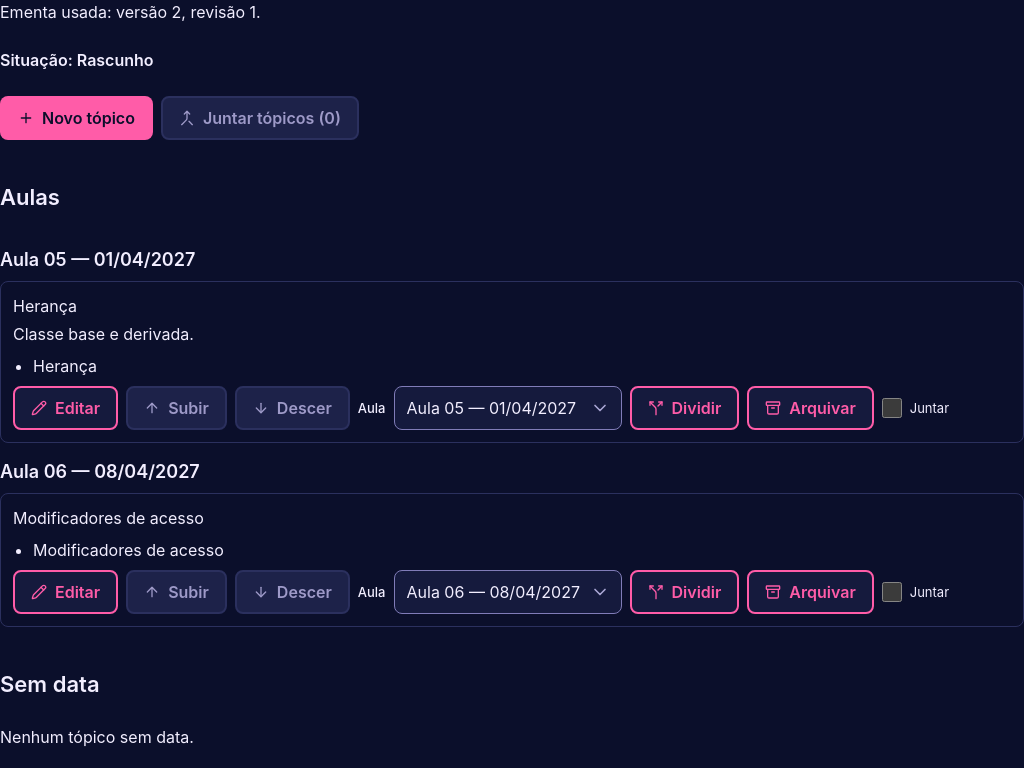
Test: 004/US6-2 MergeTopicsDialog — juntar tópicos (FR-036) › na página: a seleção "Juntar" de dois tópicos habilita "Juntar tópicos (2)"
Expected: the button "Juntar tópicos (0)" is disabled, x1=161 y1=96 x2=359 y2=140
Click the checkbox named "Juntar Modificadores de acesso": [892, 592] box x1=882 y1=582 x2=902 y2=602
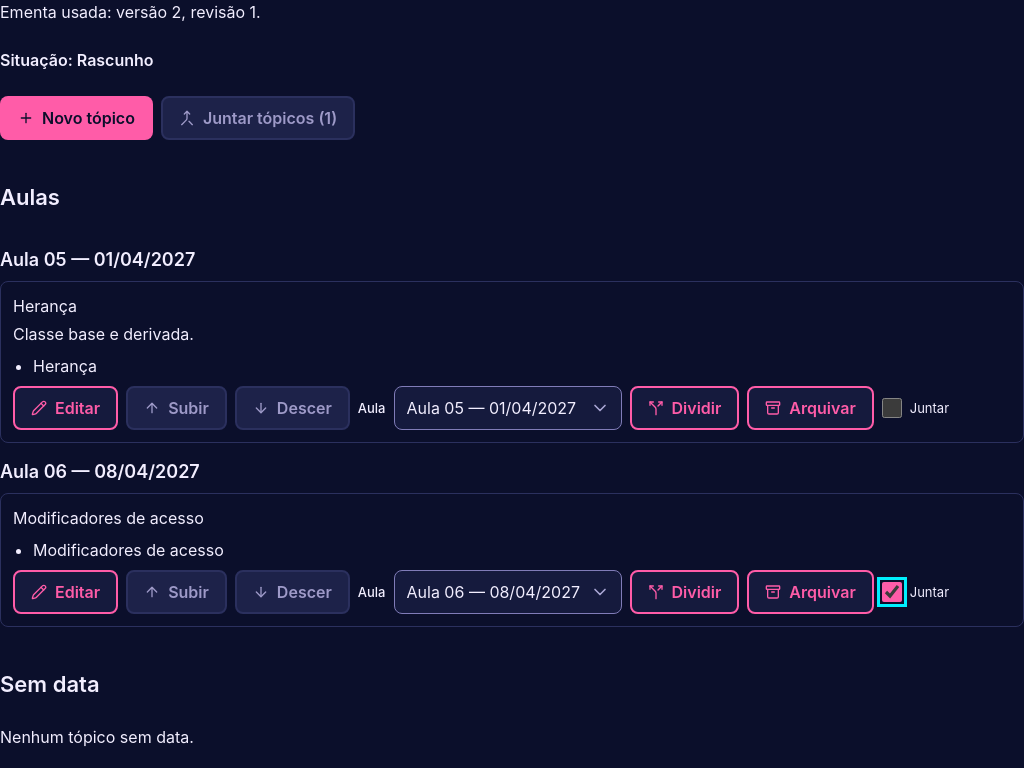
Click the checkbox named "Juntar Herança": [892, 408] box x1=882 y1=398 x2=902 y2=418
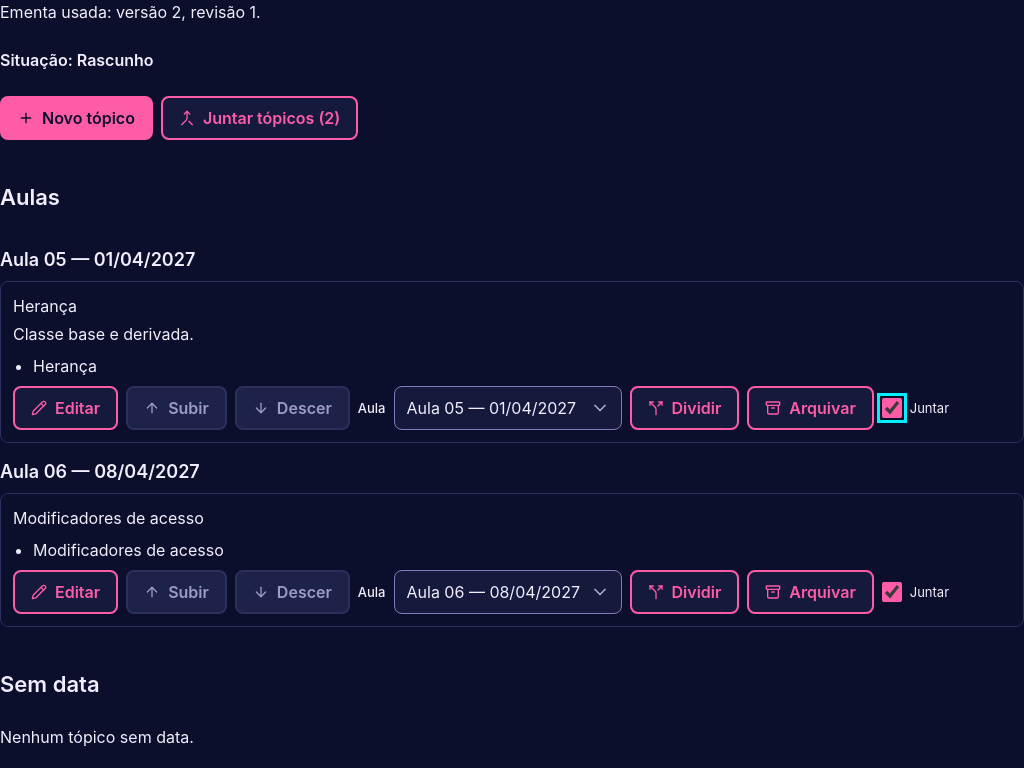
Click the button "Juntar tópicos (2)": [260, 118] box x1=161 y1=96 x2=358 y2=140
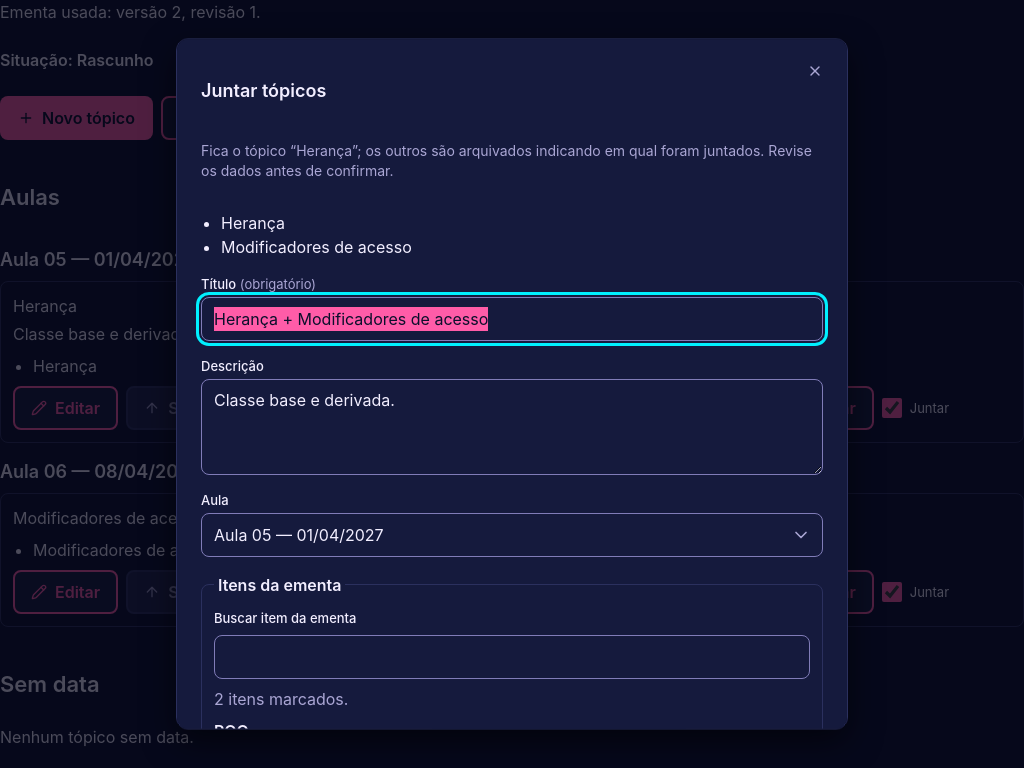
Now the text "Fica o tópico “Herança”" is shown, box x1=201 y1=142 x2=812 y2=179
